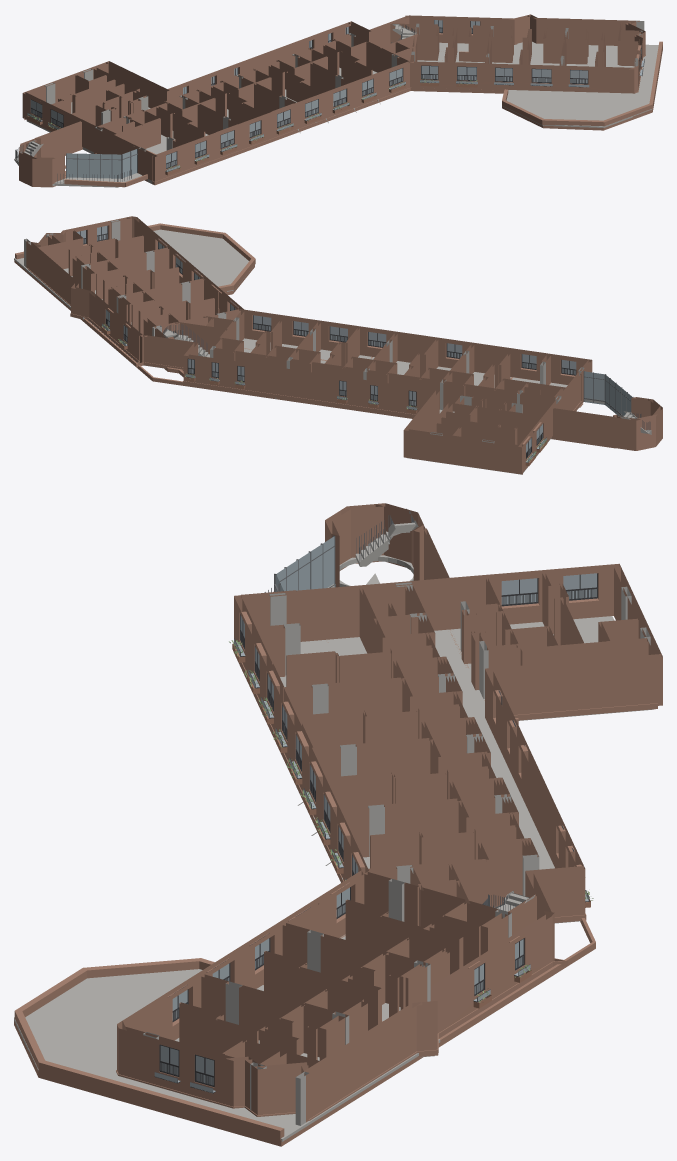
Rendered from revit_nivel_2.glb.
3 renders of one model, top to bottom at view 1: azimuth 30°, elevation 25°; view 2: azimuth 150°, elevation 25°; view 3: azimuth 270°, elevation 25°, orthographic. The views are drawn at different scales.
Parts seen in each view (by area): view 1: Revit_PISO 3; view 2: Revit_PISO 3; view 3: Revit_PISO 3.
Boxes of the visible parts, <box> form: Revit_PISO 3: <box>14,14,662,187</box>; Revit_PISO 3: <box>14,216,662,474</box>; Revit_PISO 3: <box>14,503,662,1146</box>.
Size of the model in its own units: 68.81 by 3 by 32.06.
